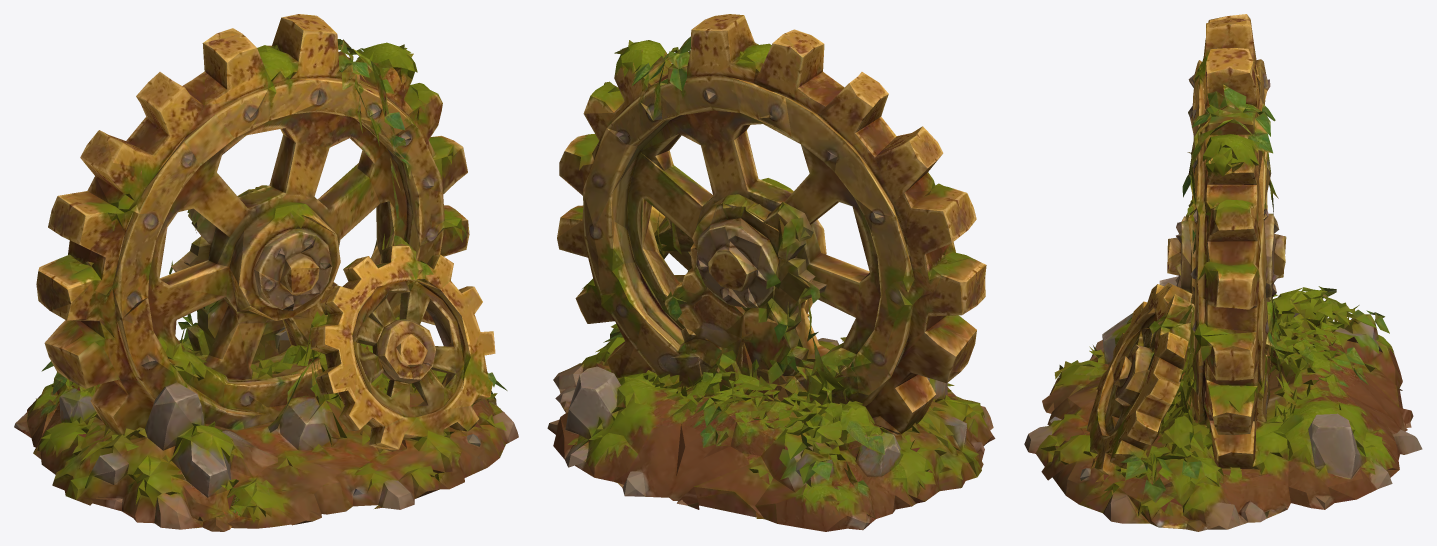
The model's file is landmark_gear.glb.
3 views of the same model, side by side, from view 1: azimuth 30°, elevation 25°; view 2: azimuth 150°, elevation 25°; view 3: azimuth 270°, elevation 25° (orthographic). The views are drawn at different scales.
Visible parts, largest first — view 1: output_unwrapped; view 2: output_unwrapped; view 3: output_unwrapped.
Part boxes in pixels (left/top/right/bottom): output_unwrapped: left=14, top=14, right=518, bottom=531; output_unwrapped: left=547, top=14, right=995, bottom=531; output_unwrapped: left=1024, top=14, right=1422, bottom=531.
Bounding box in the file's own units: 1.87 × 1.69 × 1.54.
1 material, 1 textured.
